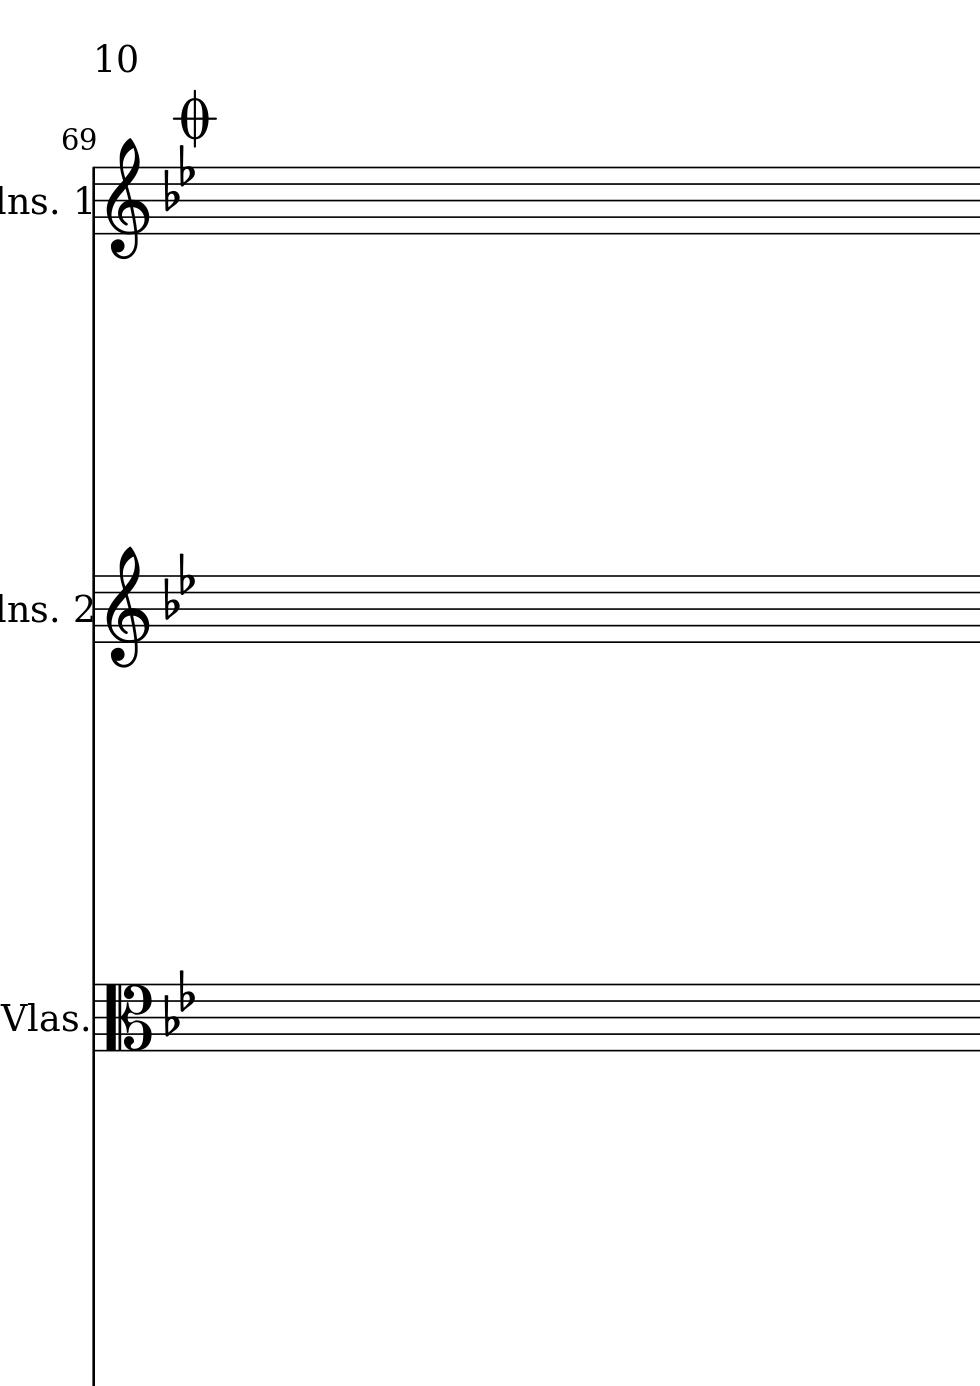0: (115, 42, 138, 75)
1: (94, 41, 113, 76)
6: (60, 125, 78, 154)
9: (78, 124, 97, 154)
B_F: (162, 144, 196, 212), (163, 551, 195, 620), (164, 968, 194, 1035)
Cclef: (102, 982, 152, 1052)
Coda: (171, 89, 217, 148)
Gclef: (103, 136, 148, 262), (104, 545, 148, 670)
Single_barline: (87, 984, 102, 1052), (88, 166, 101, 235), (88, 575, 101, 643)
Vla: (2, 997, 59, 1039)
